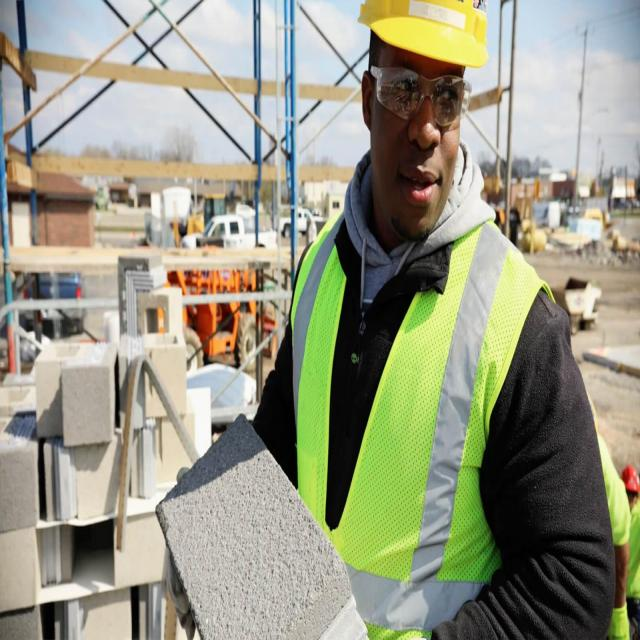Reflective-Jacket: (287, 211, 554, 635)
Safety-Helmet: (356, 0, 489, 73)
